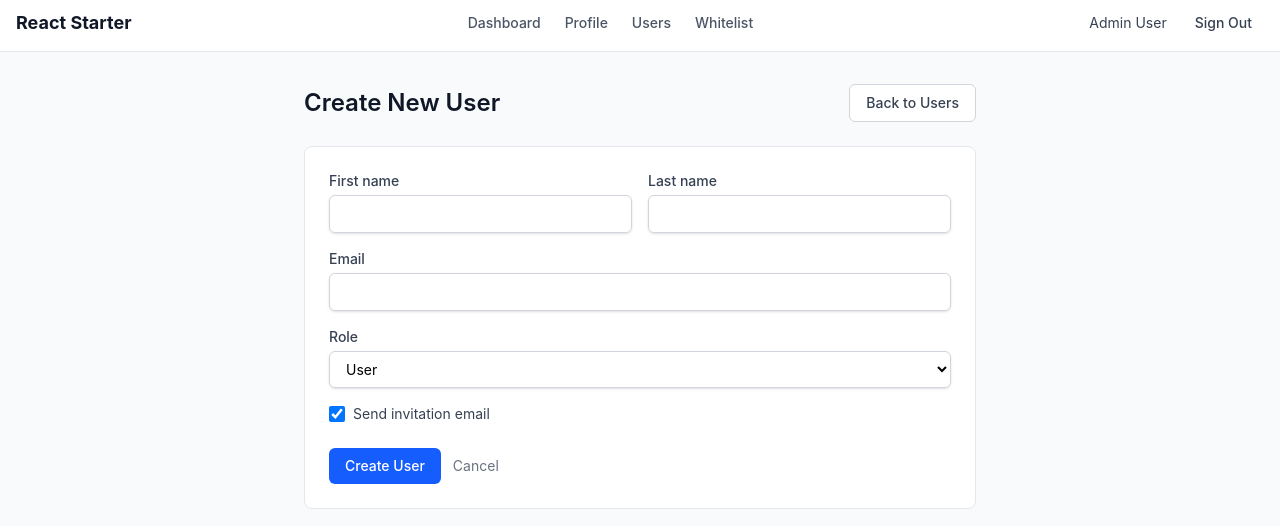
Scenario: CreateUserPage › shows success toast and redirects on success
Type "New" into the field labelled "First name" at (480, 214), box [329, 195, 632, 233]
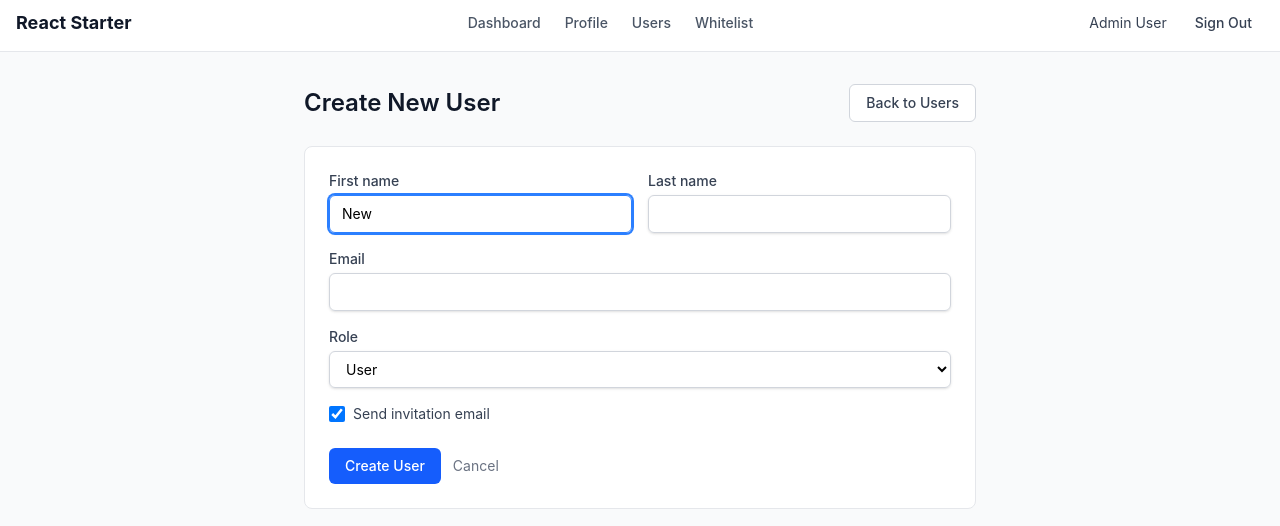
Type "User" into the field labelled "Last name" at (800, 214), box [648, 195, 951, 233]
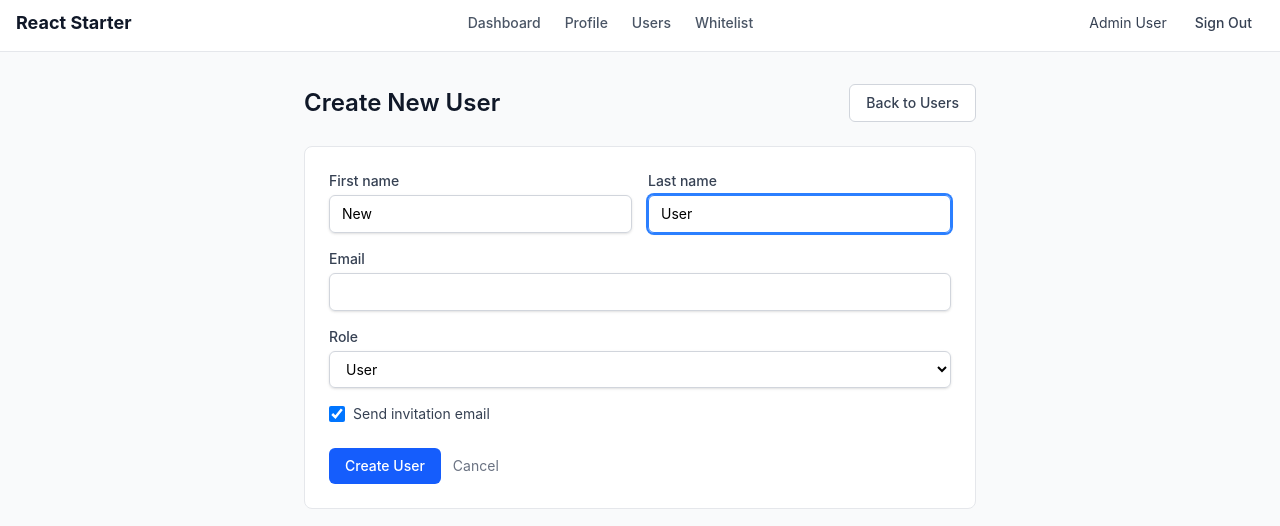
Type "newuser@example.com" into the field labelled "Email" at (640, 292), box [329, 273, 951, 311]
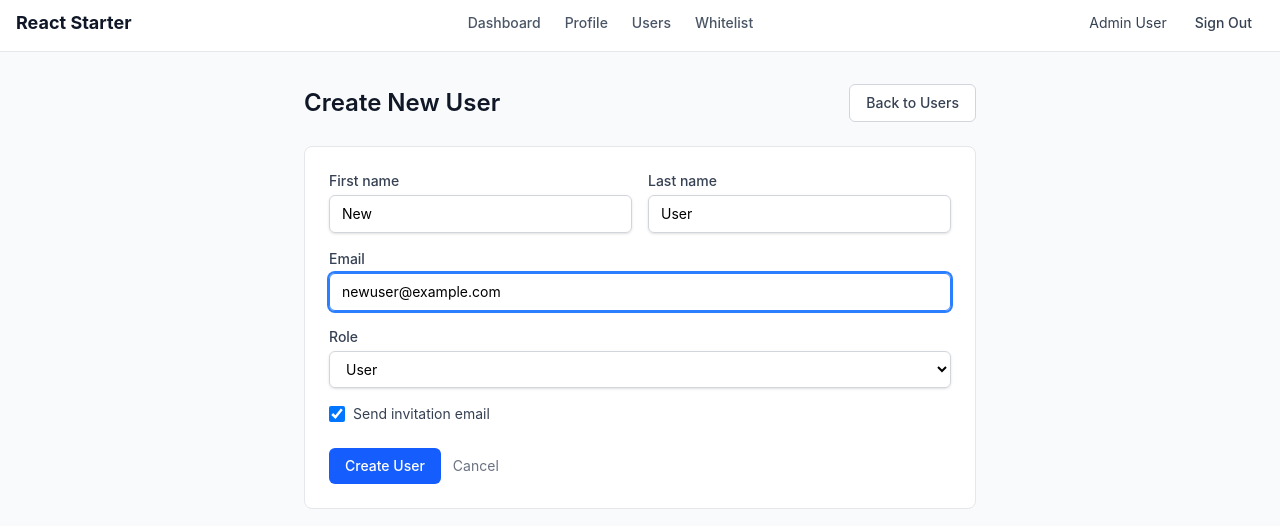
Click the button "Create User" at (385, 466), box [329, 448, 441, 484]
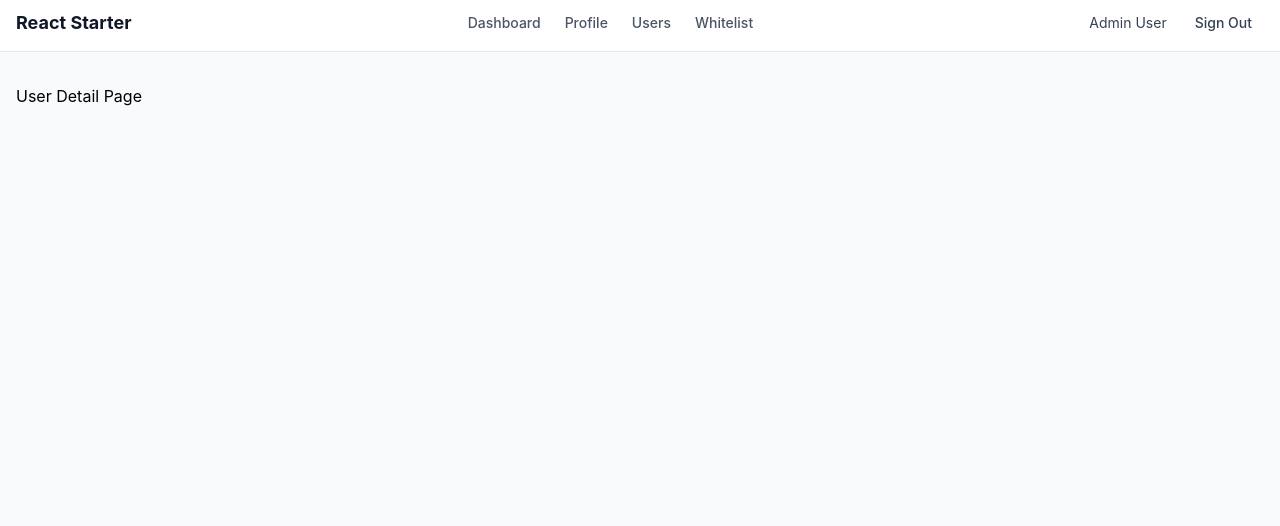
expect the text "User Detail Page" is shown: met, box [16, 86, 142, 106]
